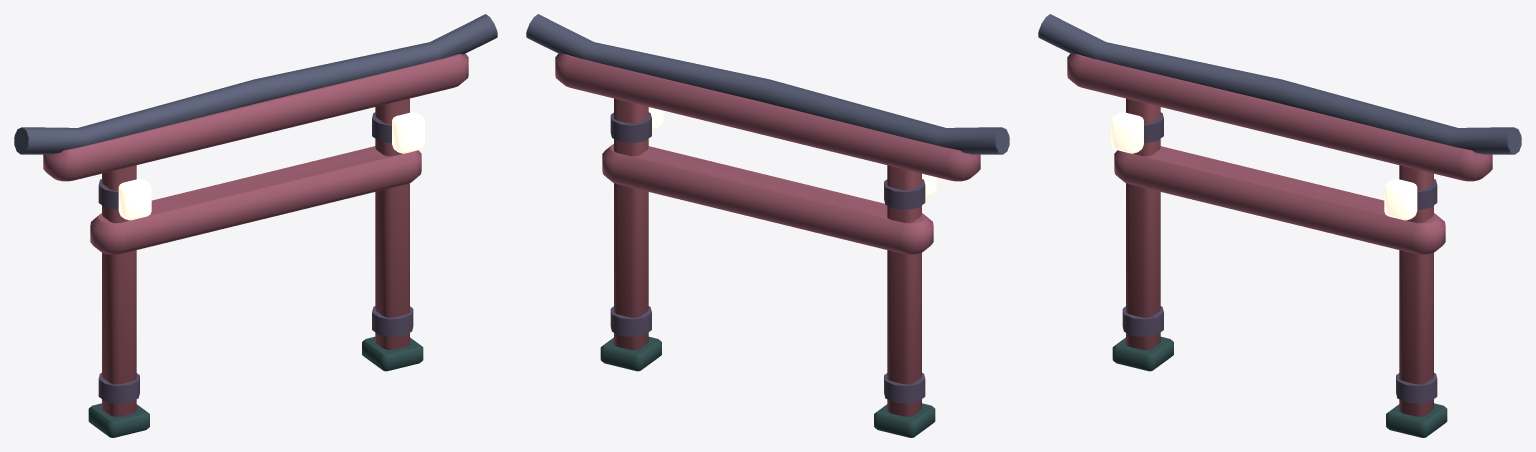
Rendered from japan_landmark.glb.
3 views of the same model, side by side, from view 1: azimuth 30°, elevation 25°; view 2: azimuth 150°, elevation 25°; view 3: azimuth 330°, elevation 25° (orthographic).
Visible parts, largest first — view 1: JapanLandmark; view 2: JapanLandmark; view 3: JapanLandmark.
Boxes of the visible parts, box(x1,y1,x2,y2) form: JapanLandmark: box(14, 14, 497, 437); JapanLandmark: box(526, 14, 1009, 437); JapanLandmark: box(1038, 14, 1521, 437).
Size of the model in its own units: 5.38 by 3.48 by 0.6643.
